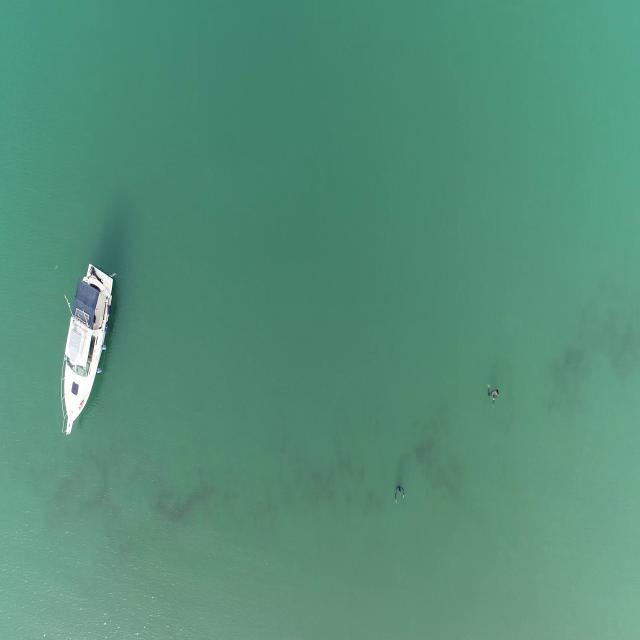boat: (56, 264, 117, 438)
person: (393, 484, 407, 507), (486, 384, 499, 406)
